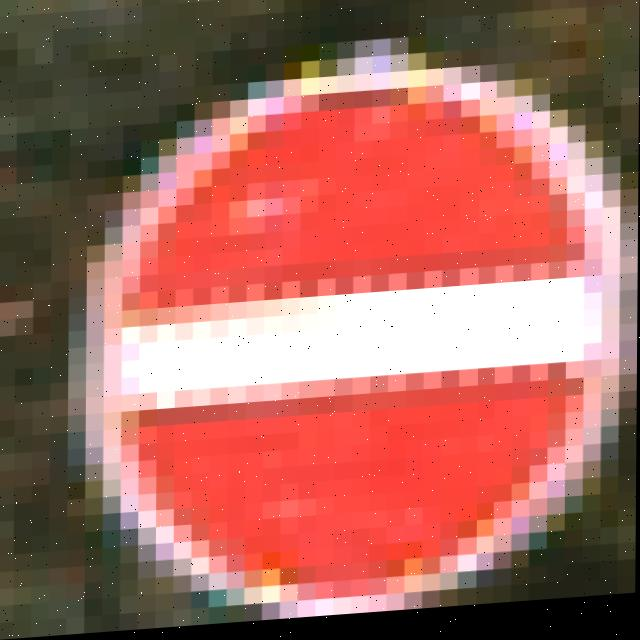road_rough: (48, 3, 639, 636)
